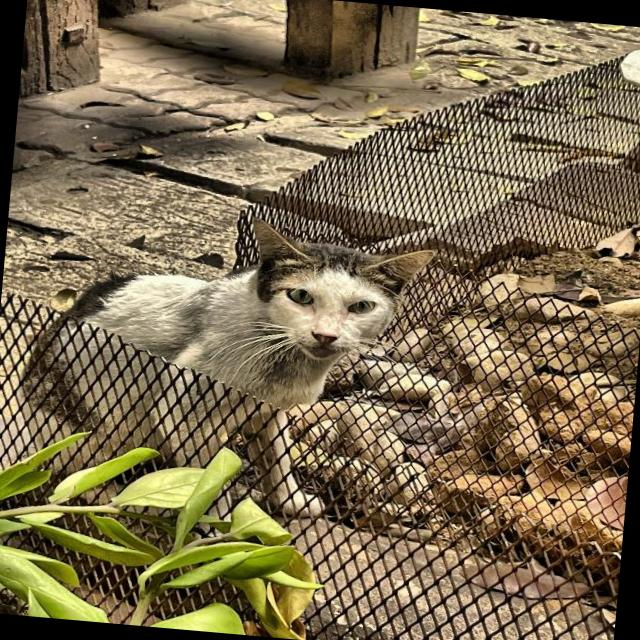Healthy skin: (127, 286, 229, 340)
